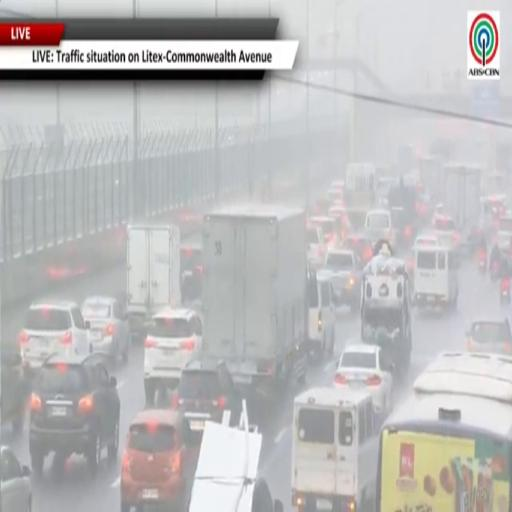bus: (376, 352, 511, 511)
car: (29, 355, 120, 475), (120, 409, 194, 511), (144, 308, 202, 406), (18, 300, 89, 379), (172, 360, 241, 435), (334, 344, 393, 413), (81, 296, 130, 363), (0, 344, 28, 435), (307, 271, 335, 356), (325, 250, 362, 311), (0, 445, 32, 511), (466, 316, 511, 355), (180, 243, 203, 303), (365, 210, 396, 246), (308, 216, 339, 249), (341, 235, 373, 264), (432, 216, 460, 249), (306, 227, 326, 267), (329, 205, 351, 239), (496, 215, 511, 252), (413, 234, 439, 249), (327, 187, 343, 204)
motorcycle: (500, 277, 510, 306), (489, 258, 500, 283), (478, 249, 487, 275)
truck: (201, 204, 308, 399), (126, 226, 181, 339), (443, 164, 482, 231), (418, 155, 443, 202)
